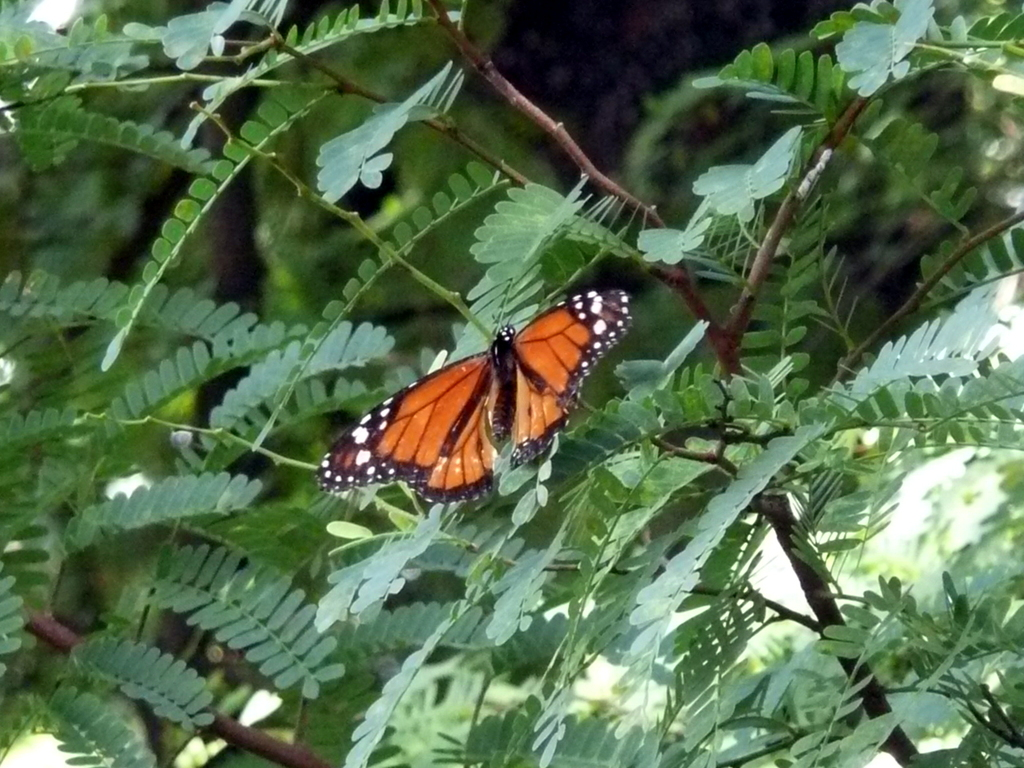Butterfly: (307, 287, 641, 507)
